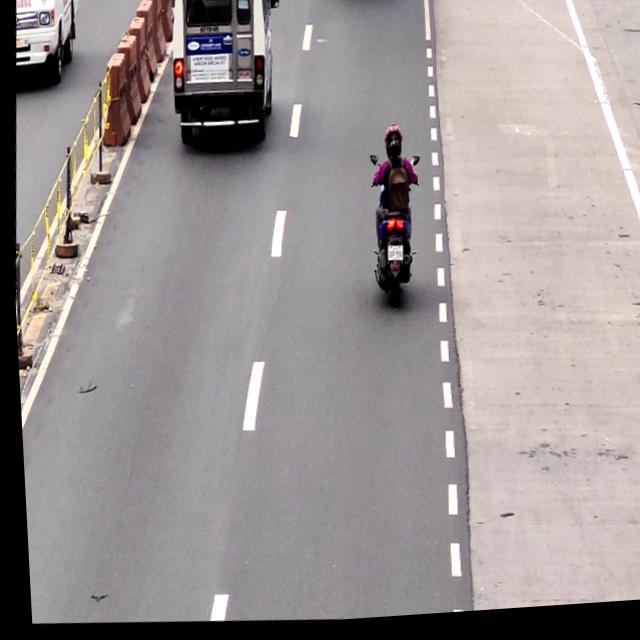Car: (163, 0, 282, 152)
License-Plate: (384, 247, 402, 268)
Motorcycle: (365, 126, 420, 314)
